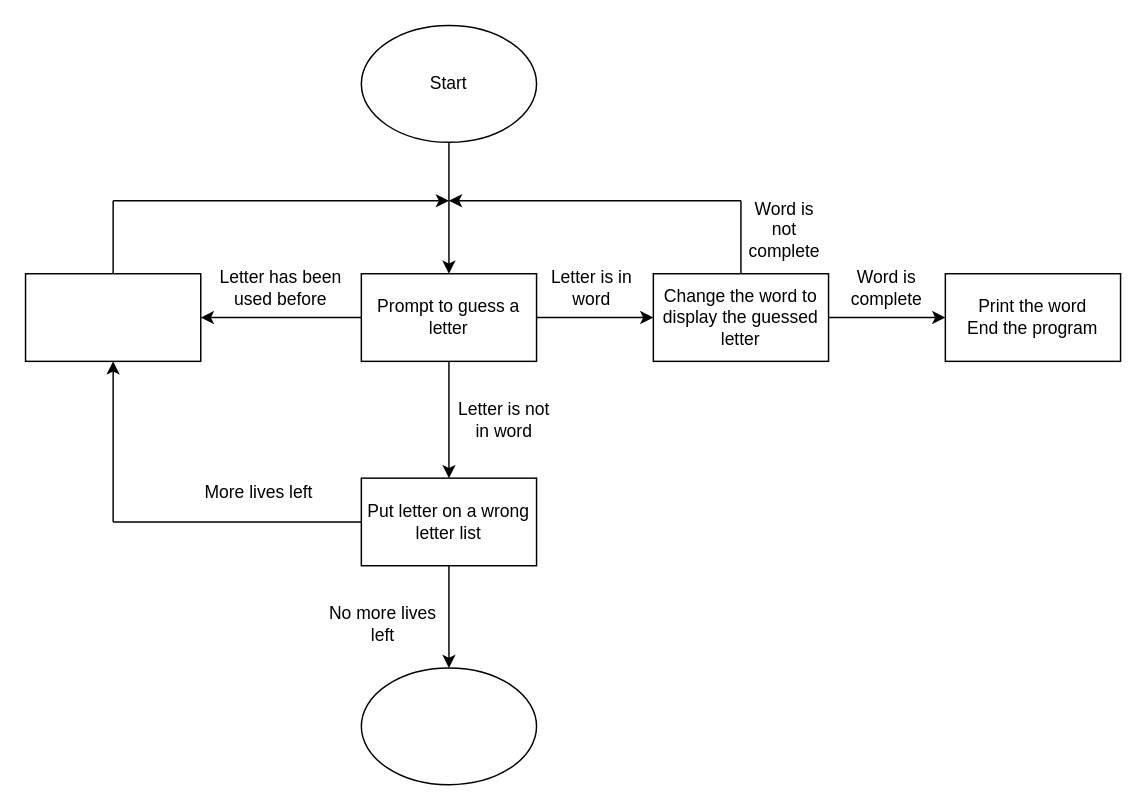
Image size: 1146x810. Some labels were removed from this diagram. The shapes that lost their labels are listed below. From the top down, each one's centre as x and y in pixels, then its label:
At point (112, 316): "Repeat".
At point (448, 725): "End".
